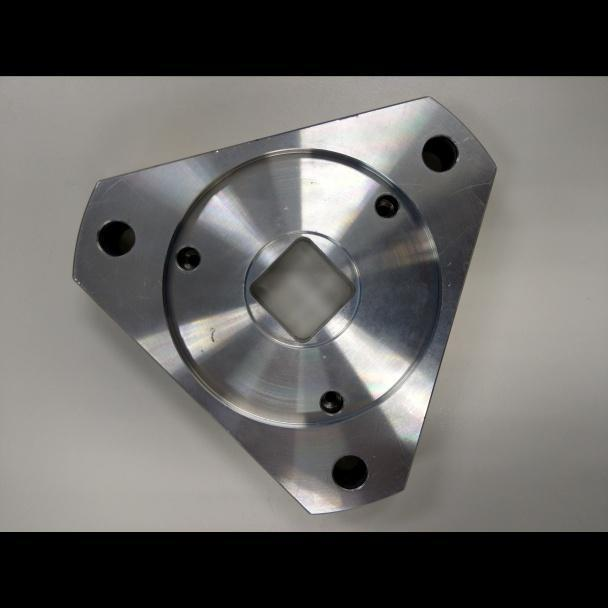hole: (93, 216, 137, 258), (419, 132, 460, 174), (330, 451, 370, 492), (172, 243, 202, 275), (372, 191, 401, 219), (318, 388, 346, 417)
